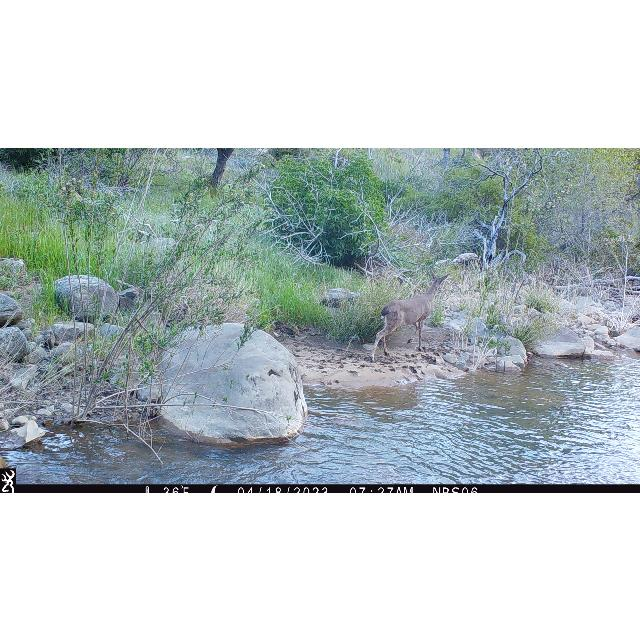animals: (370, 268, 450, 360)
